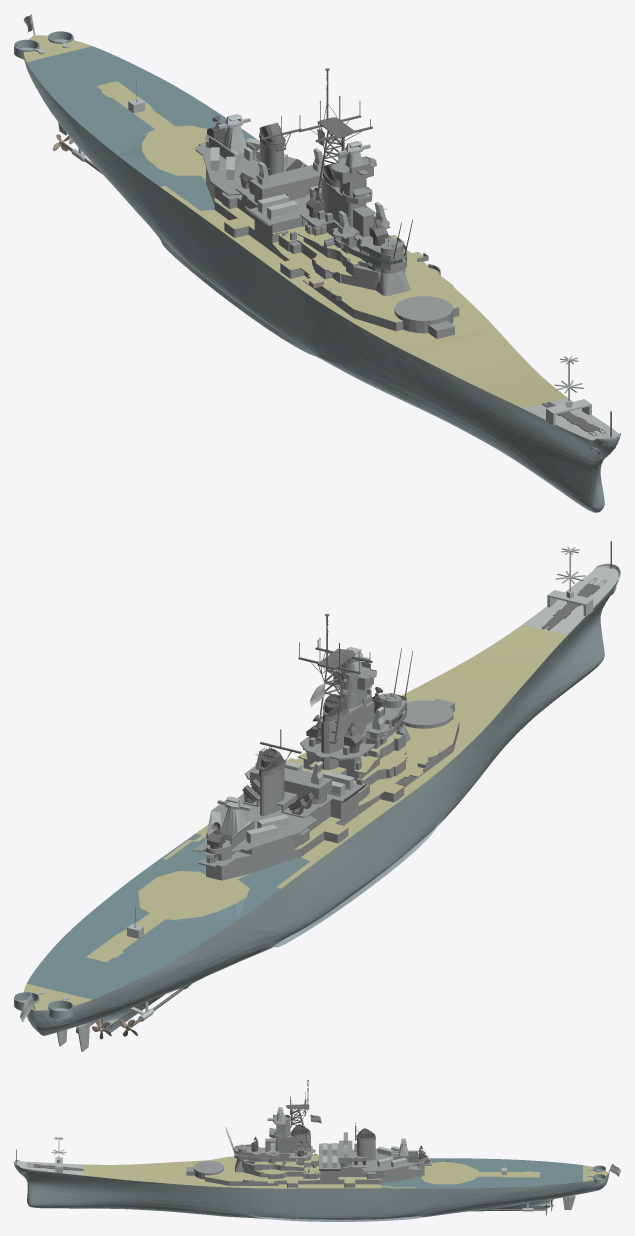
Rendered from 3dBattleshipDae.dae.
3 views of the same model, one above another, from view 1: azimuth 30°, elevation 25°; view 2: azimuth 150°, elevation 25°; view 3: azimuth 270°, elevation 25° (orthographic). The views are drawn at different scales.
Visible parts, largest first — view 1: NCasco, NCastillo, NCubMad, NCubHel, nterr4, Nestr01, NCubiert, NRadTorr, NCasLat1, nterr6; view 2: NCasco, NCastillo, NCubMad, NCubHel, nterr4, NCubiert, Nestr01, NCasLat1, NRadTorr; view 3: NCasco, NCastillo, NCubMad, NCubHel, nterr4, NCubiert, NCaLat, Nestr01, nterr5.
Boxes of the visible parts, x1=… form: NCasco: x1=14, y1=31, x2=620, y2=512; NCastillo: x1=195, y1=134, x2=459, y2=338; NCubMad: x1=23, y1=35, x2=567, y2=408; NCubHel: x1=27, y1=46, x2=256, y2=210; nterr4: x1=272, y1=235, x2=458, y2=322; Nestr01: x1=298, y1=96, x2=372, y2=198; NCubiert: x1=523, y1=397, x2=618, y2=440; NRadTorr: x1=218, y1=114, x2=253, y2=164; NCasLat1: x1=160, y1=239, x2=321, y2=358; nterr6: x1=272, y1=226, x2=352, y2=276; NCasco: x1=14, y1=578, x2=618, y2=1035; NCastillo: x1=192, y1=661, x2=459, y2=880; NCubMad: x1=24, y1=624, x2=567, y2=1010; NCubHel: x1=27, y1=833, x2=309, y2=999; nterr4: x1=287, y1=719, x2=458, y2=805; NCubiert: x1=523, y1=567, x2=619, y2=634; Nestr01: x1=298, y1=638, x2=372, y2=743; NCasLat1: x1=273, y1=827, x2=436, y2=947; NRadTorr: x1=217, y1=796, x2=250, y2=840; NCasco: x1=14, y1=1161, x2=609, y2=1219; NCastillo: x1=186, y1=1114, x2=431, y2=1187; NCubMad: x1=84, y1=1160, x2=608, y2=1188; NCubHel: x1=379, y1=1158, x2=582, y2=1188; nterr4: x1=205, y1=1156, x2=320, y2=1183; NCubiert: x1=15, y1=1161, x2=83, y2=1175; NCaLat: x1=256, y1=1216, x2=421, y2=1221; Nestr01: x1=285, y1=1092, x2=309, y2=1147; nterr5: x1=255, y1=1165, x2=320, y2=1174.
Size of the model in its own units: 0.1257 by 1.06 by 0.2451.
